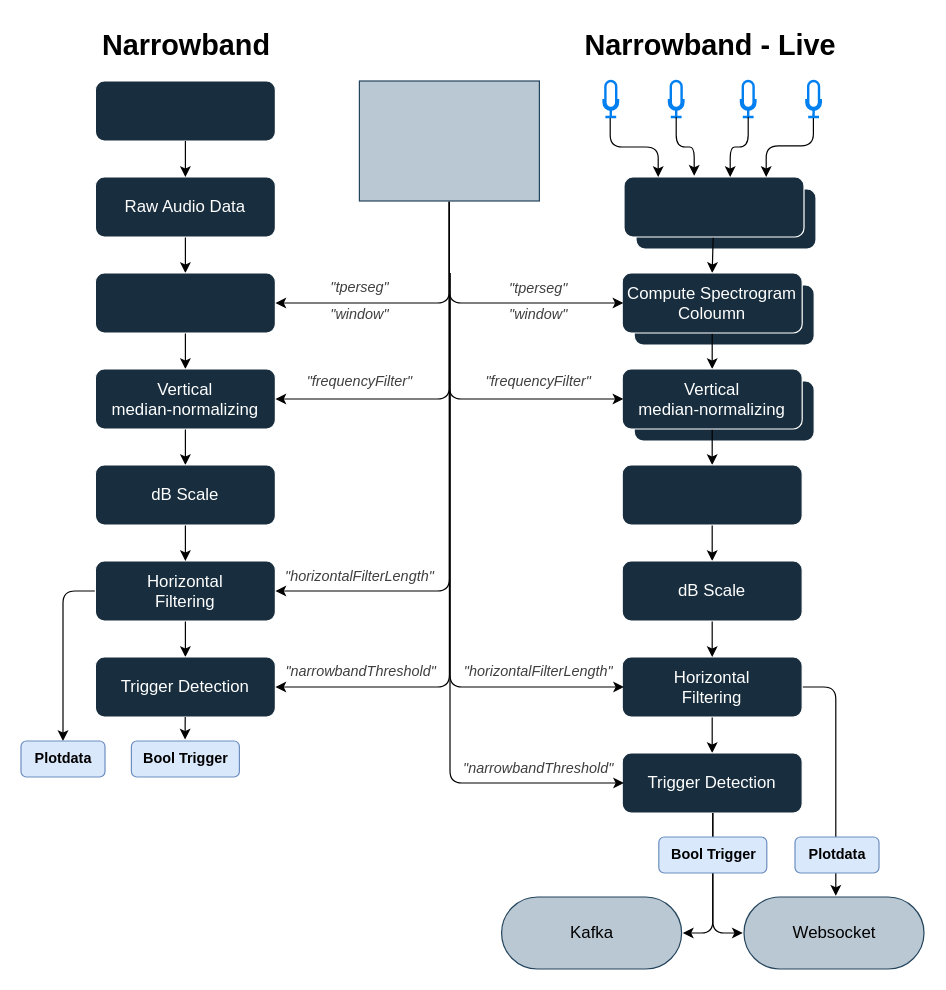
Some shapes in this 946 by 990 pixel diagram are drawn without their labels. Here are the shapes that lost their labels. From the top down, the box of each, then its label:
(94, 80, 275, 141): Audio File
(358, 80, 539, 201): Frontend Parameter Input
(623, 176, 804, 237): Raw Audio Channel Data
(94, 272, 275, 333): Compute Spectrogram
(621, 464, 802, 525): Summing Channel Data
